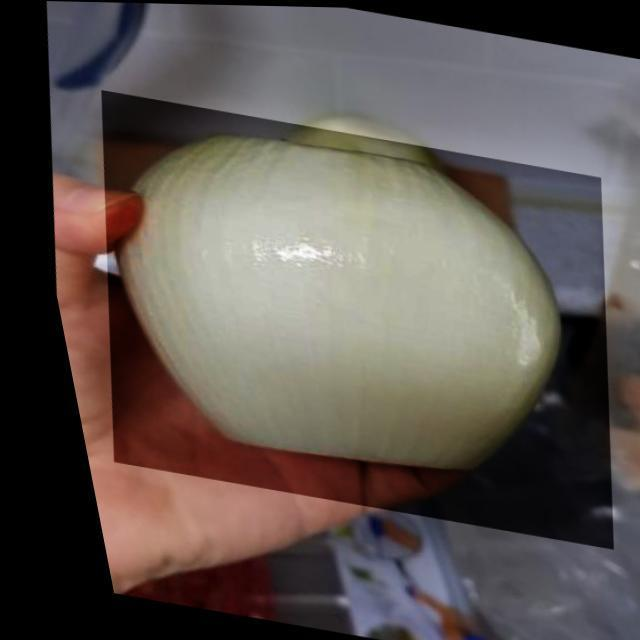Onion: (39, 89, 640, 548)
